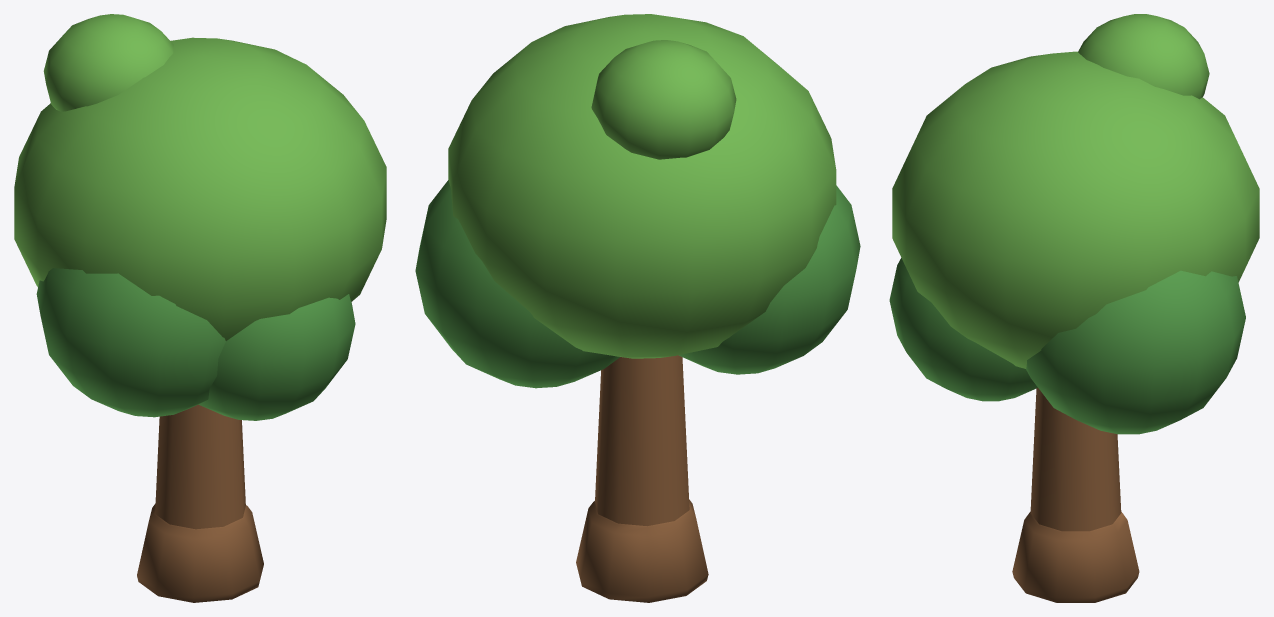
File: v_tree_oak.glb
3 renders of one model, left to right at view 1: azimuth 30°, elevation 25°; view 2: azimuth 150°, elevation 25°; view 3: azimuth 270°, elevation 25°, orthographic. The views are drawn at different scales.
Parts seen in each view (by area): view 1: Oak; view 2: Oak; view 3: Oak.
Boxes of the visible parts, bbox=[...] form: Oak: bbox=[14, 14, 386, 602]; Oak: bbox=[415, 14, 860, 602]; Oak: bbox=[889, 14, 1259, 602].
Bounding box in the file's own units: 1.91 × 2.91 × 1.83.
